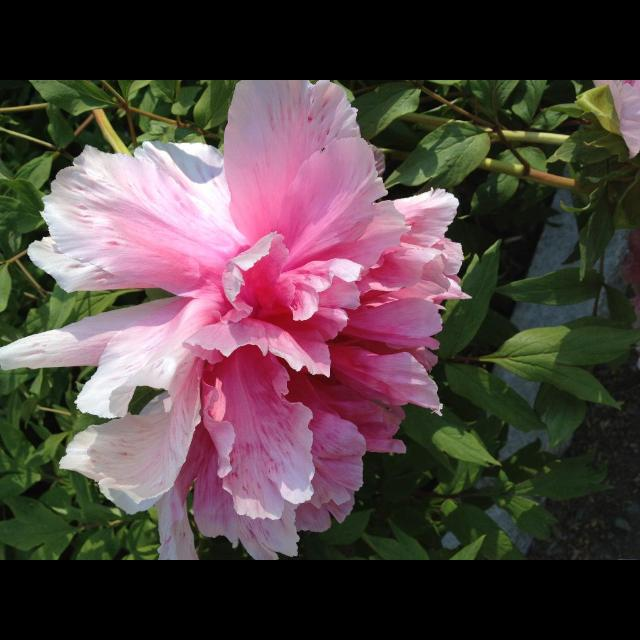Flower: (34, 90, 466, 552), (590, 80, 640, 158)
